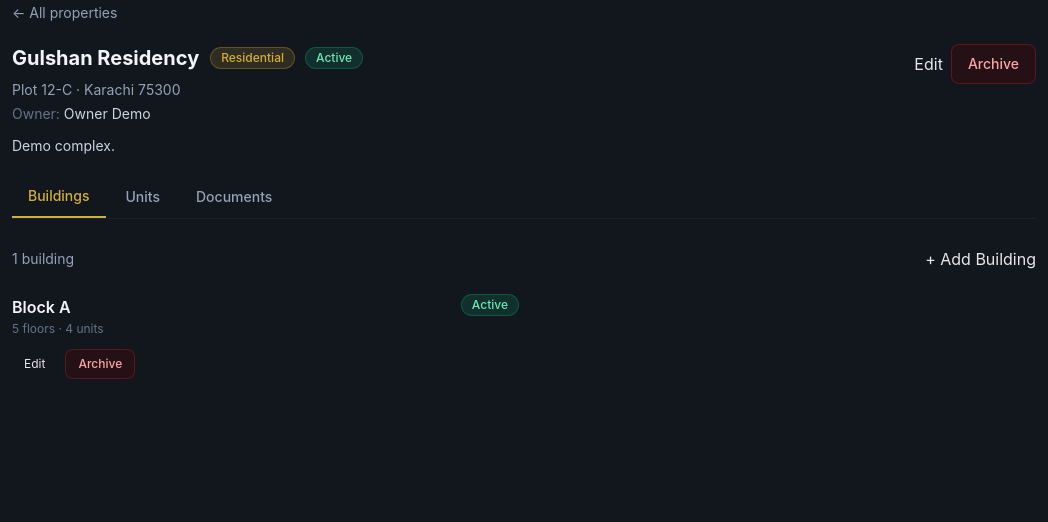
Test: Property detail › renders the detail page with tab navigation
Check: the heading "Gulshan Residency" is shown, box [12,44,199,72]
Check: the text "Owner Demo" is shown, box [64,105,150,122]
// Switch to the Units tab — empty state, no fake rows.
Click the button "Units".
click(143, 197)  # box [110,176,176,218]
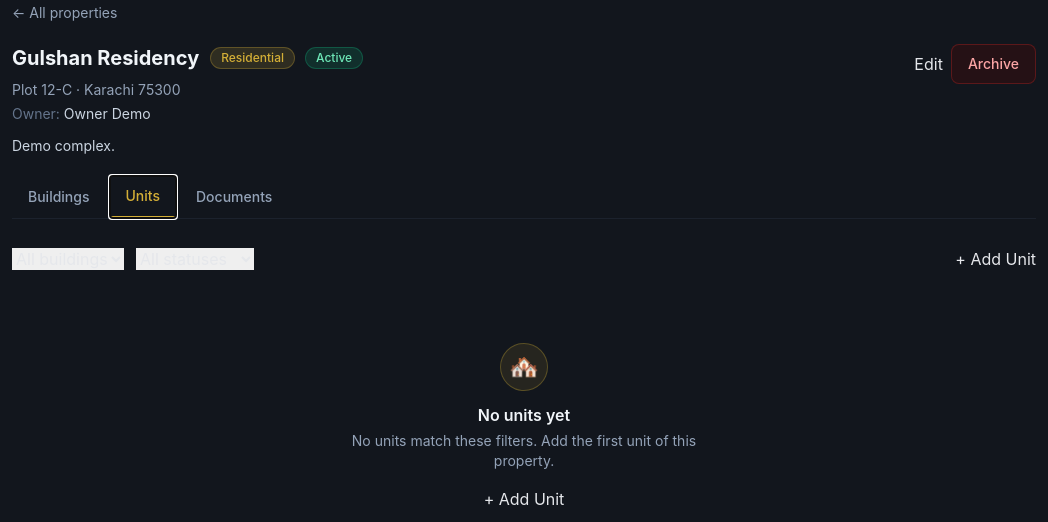
Check: the text "No units yet" is shown, box [478,403,570,427]
